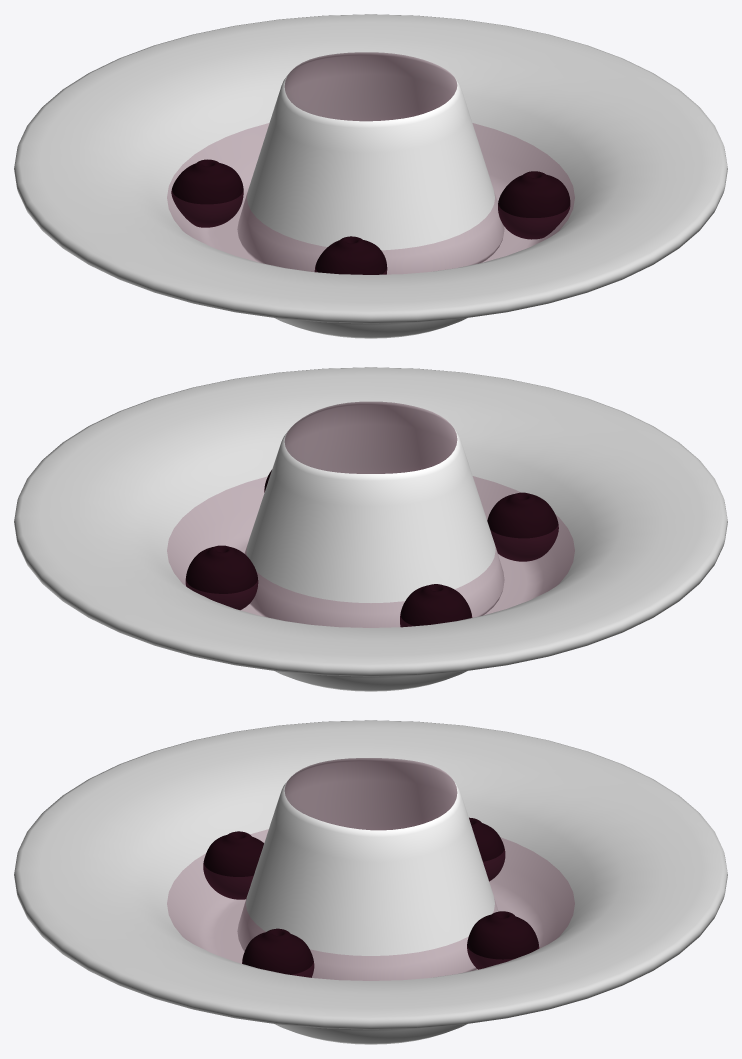
3 views of the same model, one above another, from view 1: azimuth 30°, elevation 25°; view 2: azimuth 150°, elevation 25°; view 3: azimuth 270°, elevation 25° (orthographic).
Parts seen in each view (by area): view 1: Plate_5, Flan_4, Bluebeery_0, Bluebeery001_1, Bluebeery002_2; view 2: Plate_5, Flan_4, Bluebeery002_2, Bluebeery003_3, Bluebeery001_1; view 3: Plate_5, Flan_4, Bluebeery002_2, Bluebeery003_3, Bluebeery_0, Bluebeery001_1.
Boxes of the visible parts, bbox=[...] form: Plate_5: bbox=[14, 14, 727, 338]; Flan_4: bbox=[237, 52, 504, 274]; Bluebeery_0: bbox=[498, 171, 570, 239]; Bluebeery001_1: bbox=[171, 159, 243, 227]; Bluebeery002_2: bbox=[314, 236, 387, 274]; Plate_5: bbox=[14, 367, 727, 691]; Flan_4: bbox=[244, 401, 504, 627]; Bluebeery002_2: bbox=[487, 492, 558, 561]; Bluebeery003_3: bbox=[185, 545, 258, 610]; Bluebeery001_1: bbox=[400, 584, 472, 627]; Plate_5: bbox=[14, 720, 727, 1044]; Flan_4: bbox=[237, 758, 498, 980]; Bluebeery002_2: bbox=[203, 831, 263, 899]; Bluebeery003_3: bbox=[467, 911, 539, 969]; Bluebeery_0: bbox=[242, 928, 314, 977]; Bluebeery001_1: bbox=[469, 817, 505, 881].
Size of the model in its own units: 0.158 by 0.0505 by 0.158.
